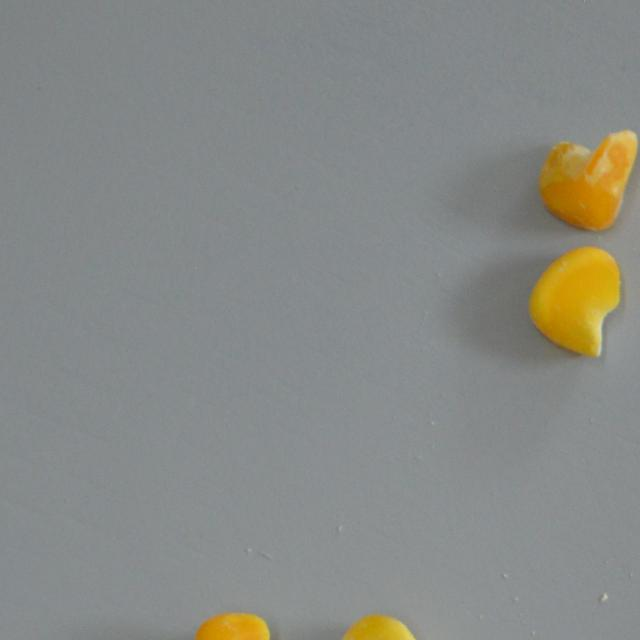dañado: (524, 240, 626, 367), (536, 126, 640, 236), (331, 610, 431, 640), (190, 610, 274, 640)
